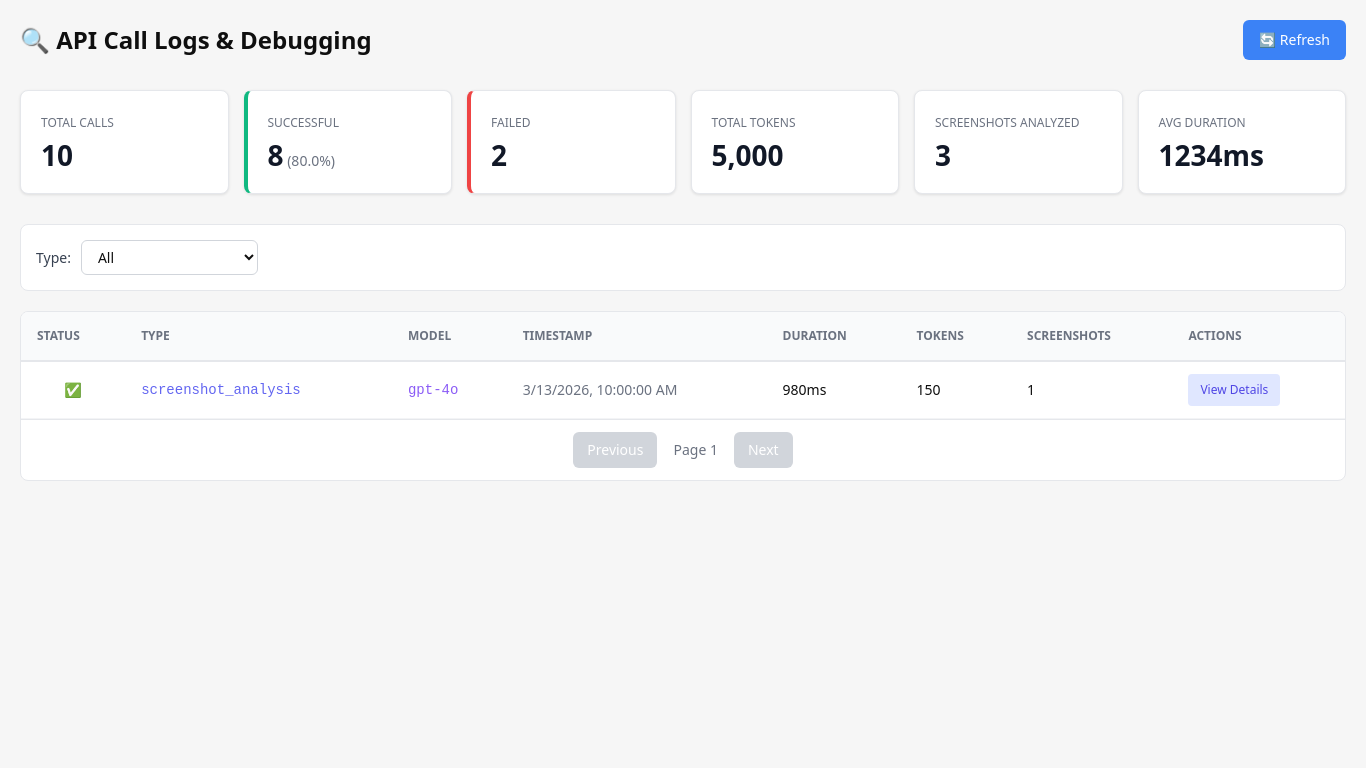
Scenario: ApiLogsView › clicking View Details opens the inline detail modal
This screenshot has width=1366, height=768.
Step 1. Click the button "View Details" → (1234, 390), box x1=1188 y1=374 x2=1280 y2=406
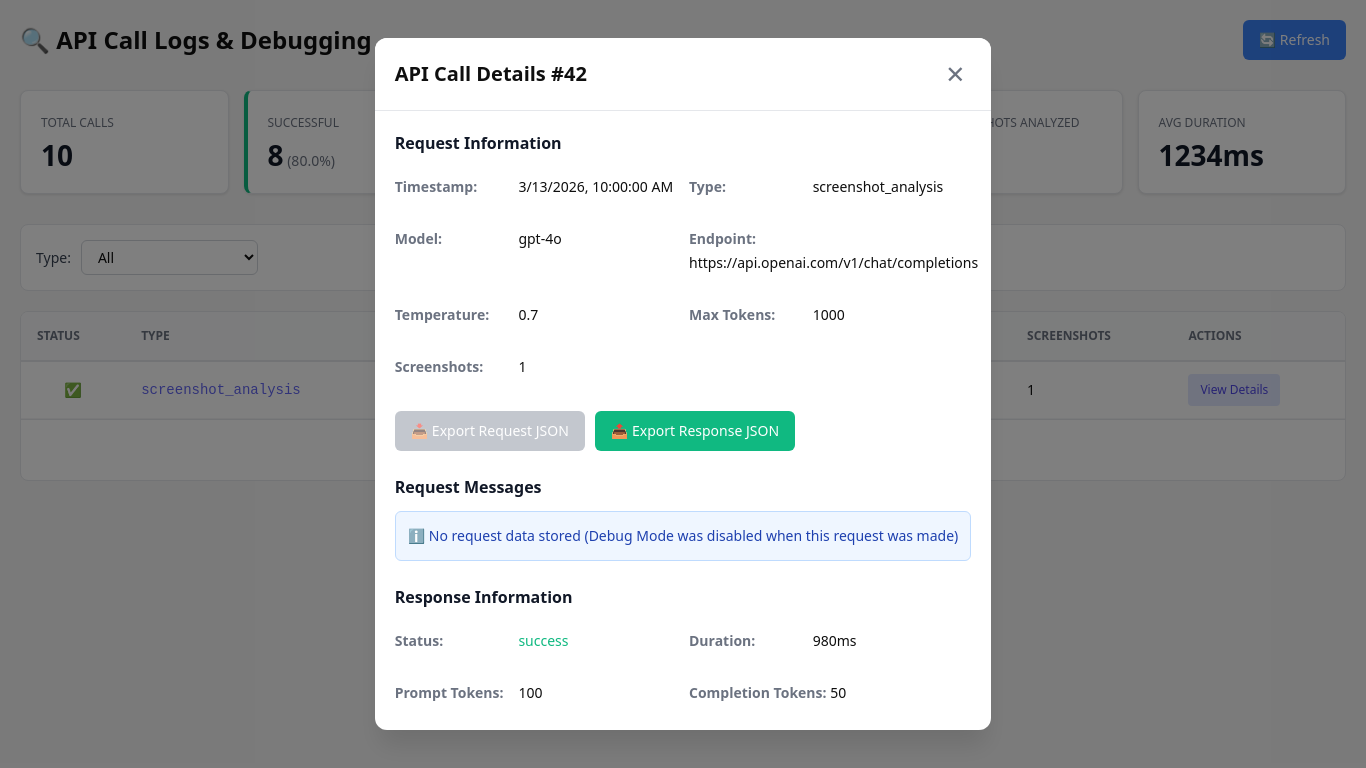
Expected: the heading "API Call Details #42" is shown, x1=395 y1=62 x2=587 y2=86
